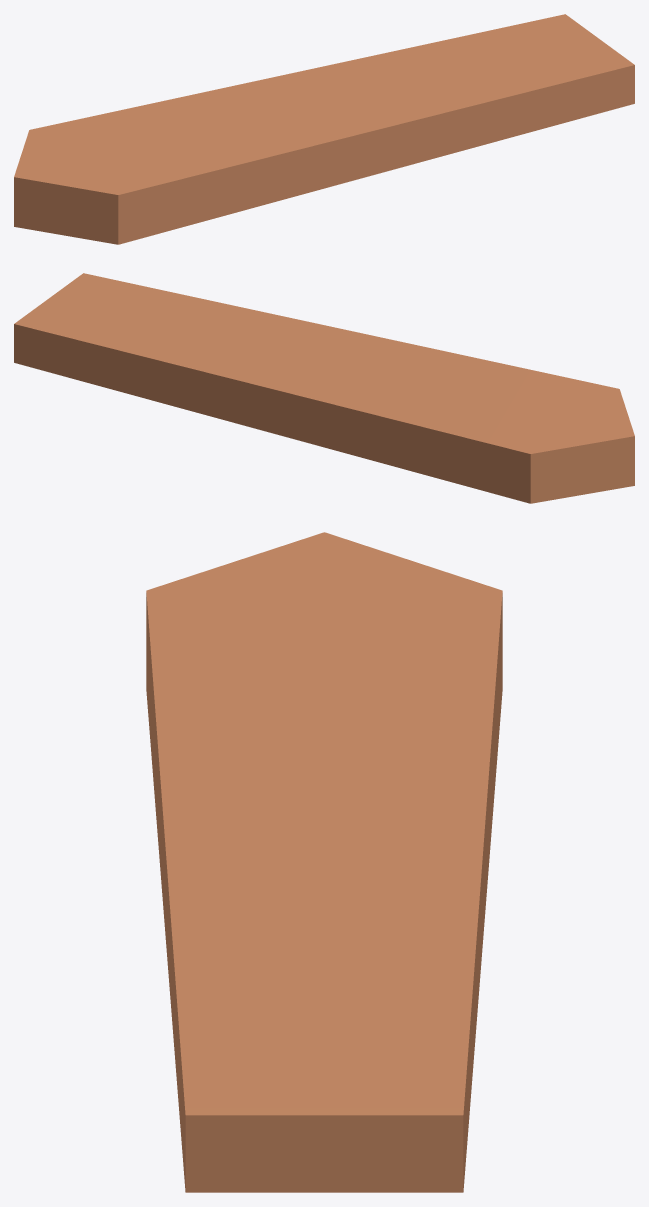
Rendered from handle.obj.
3 views of the same model, one above another, from view 1: azimuth 30°, elevation 25°; view 2: azimuth 150°, elevation 25°; view 3: azimuth 270°, elevation 25° (orthographic). The views are drawn at different scales.
Visible parts, largest first — view 1: cookingSpatula; view 2: cookingSpatula; view 3: cookingSpatula.
Boxes of the visible parts, x1,y1,x2,y2 form: cookingSpatula: (14,14,634,244); cookingSpatula: (14,273,634,503); cookingSpatula: (146,532,502,1192).
Size of the model in its own units: 0.1235 by 0.01 by 0.0325.
